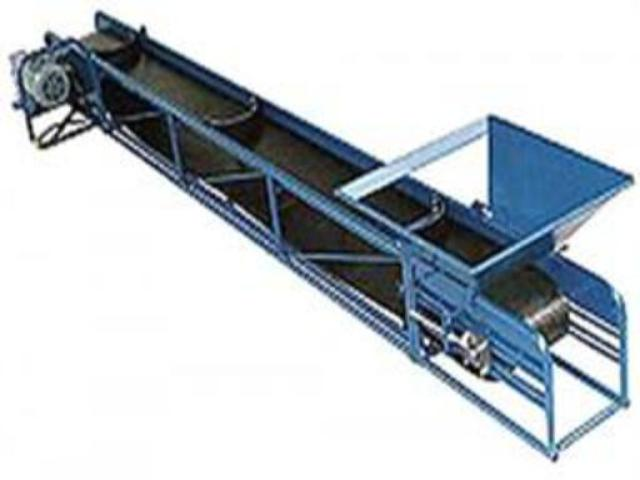conveyor: (4, 7, 636, 465)
